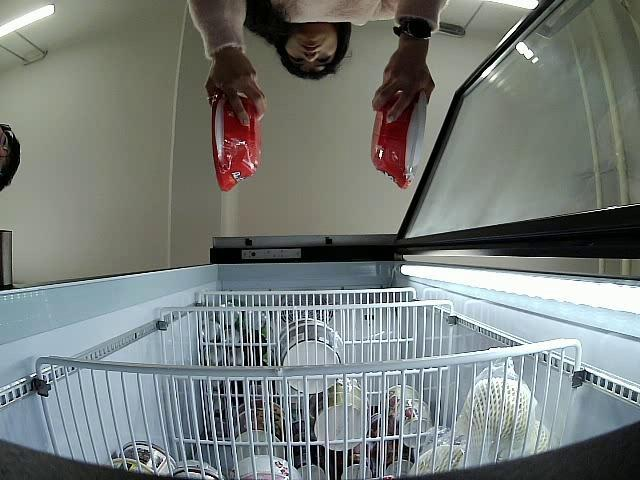10_wangTtukkeong: (370, 84, 429, 188), (214, 88, 260, 194)
